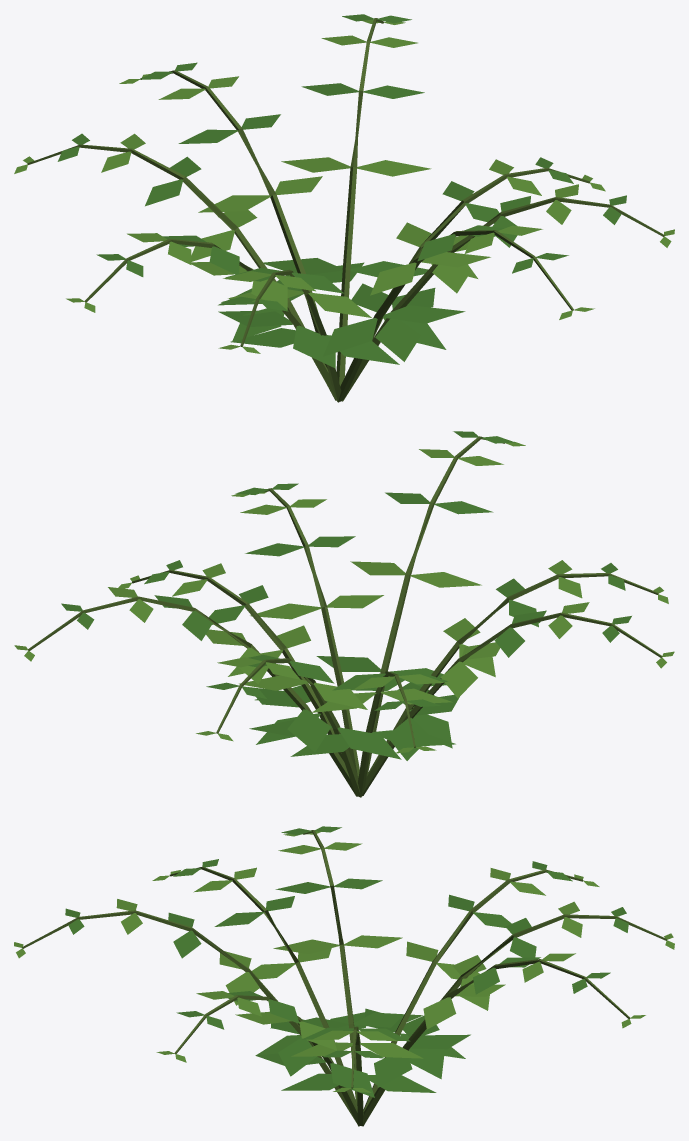
File: fern_idle.glb
The picture shows the model from 3 angles, top to bottom: view 1: azimuth 30°, elevation 25°; view 2: azimuth 150°, elevation 25°; view 3: azimuth 270°, elevation 25°; orthographic projection. The views are drawn at different scales.
Visible parts, largest first — view 1: fern; view 2: fern; view 3: fern.
Part boxes in pixels (x1,y1,x2,y2): fern: (14, 14, 674, 402); fern: (14, 431, 674, 797); fern: (14, 826, 674, 1126).
Size of the model in its own units: 0.8405 by 0.3775 by 0.9996.
